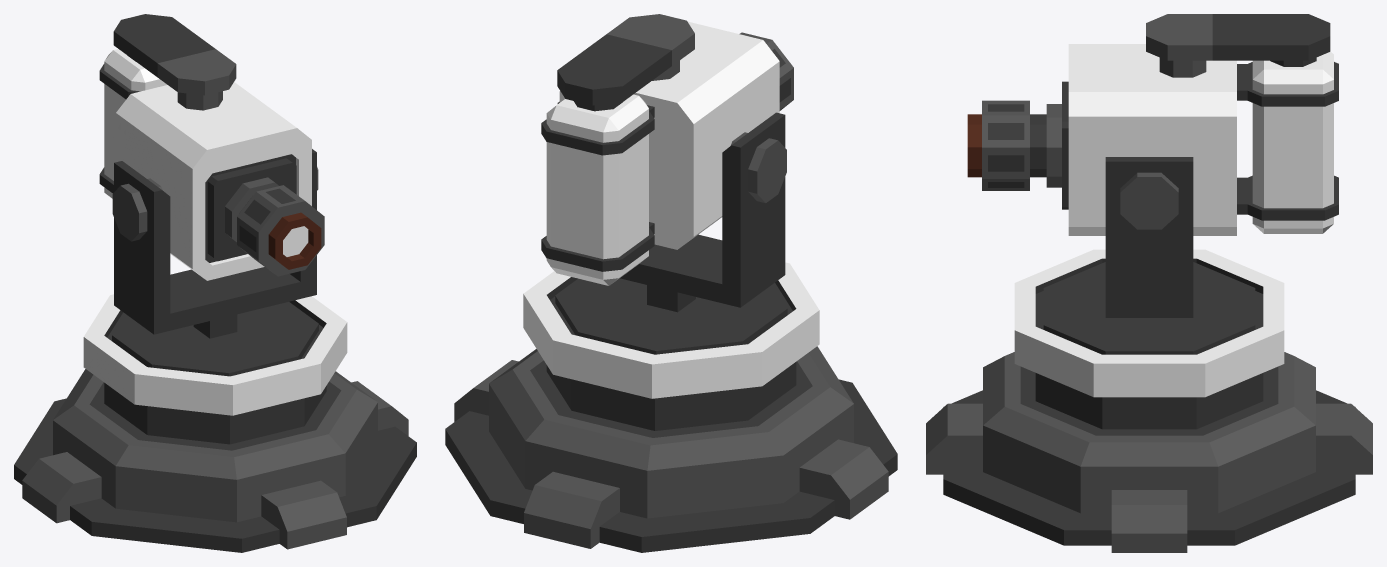
Rendered from Flame_1.fbx.
3 renders of one model, left to right at view 1: azimuth 30°, elevation 25°; view 2: azimuth 150°, elevation 25°; view 3: azimuth 270°, elevation 25°, orthographic. The views are drawn at different scales.
Visible parts, largest first — view 1: Base_Mesh, Upper_Mesh, Body_Mesh; view 2: Base_Mesh, Upper_Mesh, Body_Mesh; view 3: Body_Mesh, Base_Mesh, Upper_Mesh.
Boxes of the visible parts, left/top/right/bottom form: Base_Mesh: left=14, top=369, right=416, bottom=552; Upper_Mesh: left=83, top=149, right=347, bottom=444; Body_Mesh: left=99, top=14, right=324, bottom=280; Base_Mesh: left=445, top=346, right=897, bottom=552; Upper_Mesh: left=523, top=101, right=819, bottom=430; Body_Mesh: left=541, top=14, right=793, bottom=285; Body_Mesh: left=967, top=14, right=1338, bottom=235; Base_Mesh: left=926, top=352, right=1372, bottom=552; Upper_Mesh: left=1014, top=157, right=1284, bottom=429.
Bounding box in the file's own units: 1.3 × 1.38 × 1.3.
